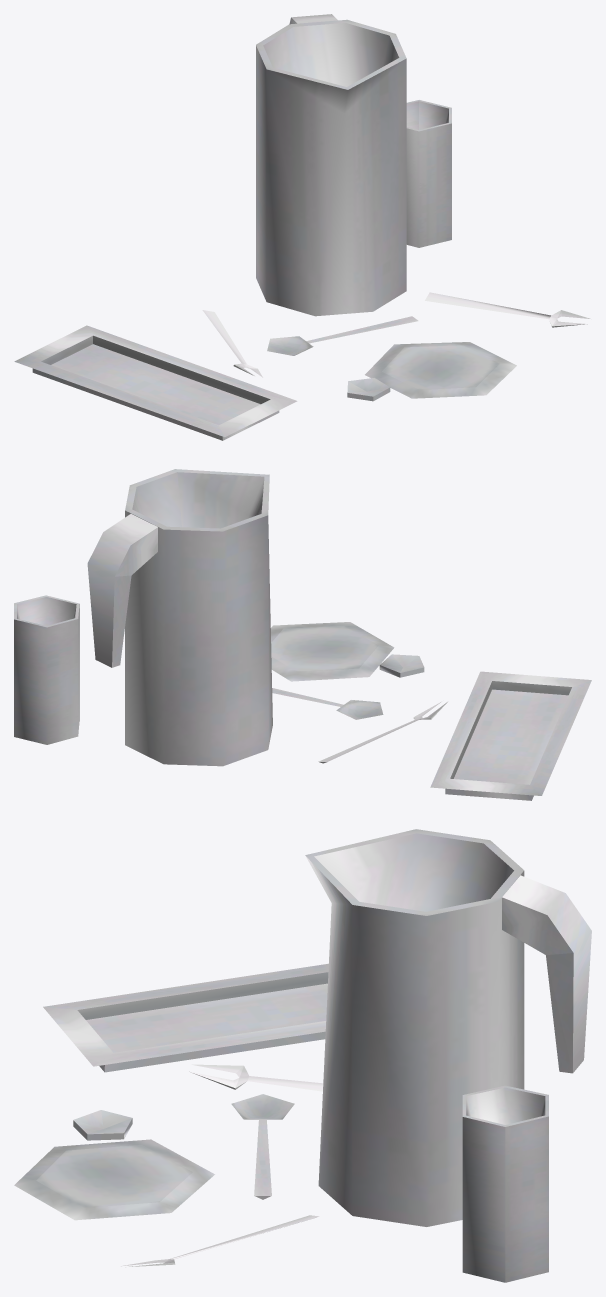
Rendered from eqp_cook_kitchen_set_lg_s1_l1.fbx.
The picture shows the model from 3 angles, top to bottom: view 1: azimuth 30°, elevation 25°; view 2: azimuth 150°, elevation 25°; view 3: azimuth 270°, elevation 25°; orthographic projection. The views are drawn at different scales.
Parts seen in each view (by area): view 1: mesh_node; view 2: mesh_node; view 3: mesh_node.
Boxes of the visible parts, x1,y1,x2,y2 form: mesh_node: [14, 14, 590, 440]; mesh_node: [14, 469, 591, 800]; mesh_node: [14, 829, 591, 1282].
Size of the model in its own units: 0.6674 by 0.31 by 0.5201.
